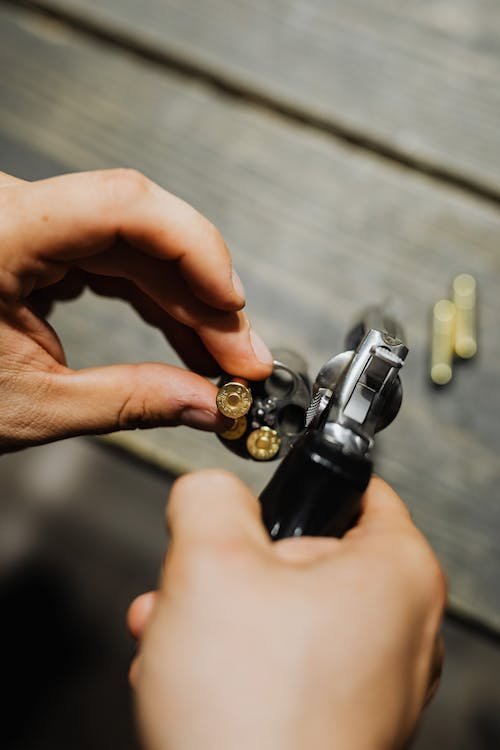gun: (208, 292, 412, 548)
